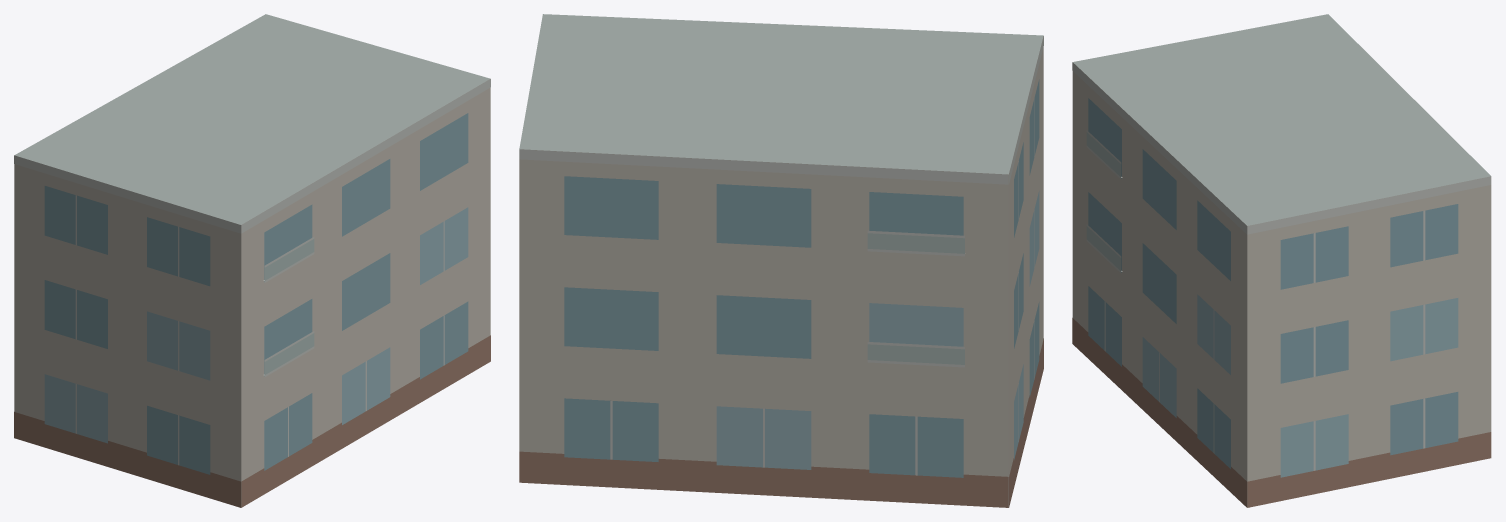
Rendered from survey-upis-33035811.glb.
The picture shows the model from 3 angles, left to right: view 1: azimuth 30°, elevation 25°; view 2: azimuth 150°, elevation 25°; view 3: azimuth 270°, elevation 25°; orthographic projection. The views are drawn at different scales.
Visible parts, largest first — view 1: survey-upis-33035811.tmp; view 2: survey-upis-33035811.tmp; view 3: survey-upis-33035811.tmp.
Boxes of the visible parts, x1,y1,x2,y2 form: survey-upis-33035811.tmp: [14, 14, 490, 507]; survey-upis-33035811.tmp: [519, 14, 1043, 507]; survey-upis-33035811.tmp: [1072, 14, 1491, 507].
Size of the model in its own units: 12.85 by 7.96 by 10.73.
